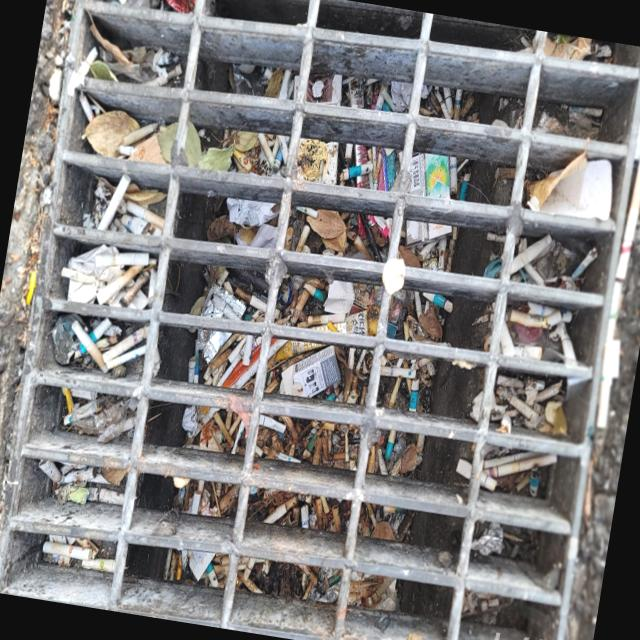drain_area: (394, 132, 499, 640), (112, 176, 214, 603), (200, 0, 524, 84)
drain_full: (0, 0, 640, 640)
